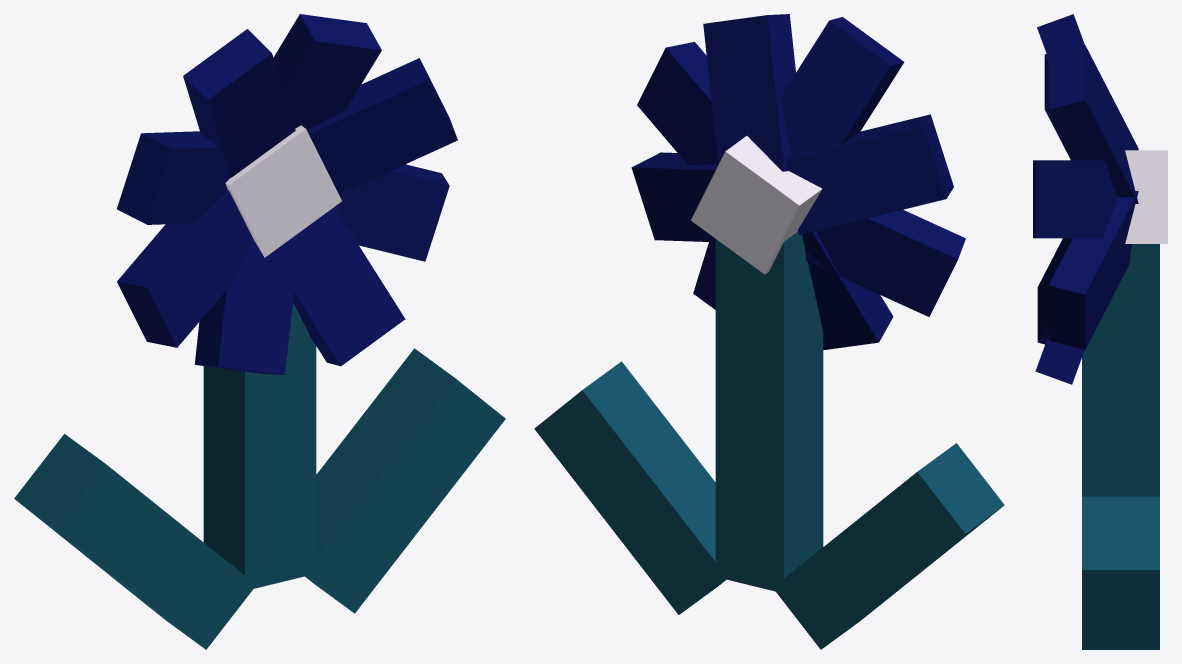
Rendered from GravityFlower.fbx.
3 renders of one model, left to right at view 1: azimuth 30°, elevation 25°; view 2: azimuth 150°, elevation 25°; view 3: azimuth 270°, elevation 25°, orthographic. The views are drawn at different scales.
Visible parts, largest first — view 1: Cube.005, Cube.002, Cube.001, Cube.003, Cube.008; view 2: Cube.005, Cube.001, Cube.002, Cube.003, Cube.008; view 3: Cube.005, Cube.001, Cube.002, Cube.008.
Part boxes in pixels (box(x1,y1,x2,y2)): Cube.005: box(117, 14, 457, 374); Cube.002: box(304, 348, 505, 613); Cube.001: box(203, 302, 316, 590); Cube.003: box(14, 434, 256, 649); Cube.008: box(225, 125, 341, 257); Cube.005: box(631, 14, 965, 350); Cube.001: box(715, 232, 823, 591); Cube.002: box(534, 361, 725, 614); Cube.003: box(773, 443, 1004, 649); Cube.008: box(691, 136, 822, 274); Cube.005: box(1033, 14, 1138, 384); Cube.001: box(1082, 244, 1159, 496); Cube.002: box(1082, 496, 1159, 649); Cube.008: box(1125, 150, 1167, 243).
Bounding box in the file's own units: 127 × 165 × 34.52.
